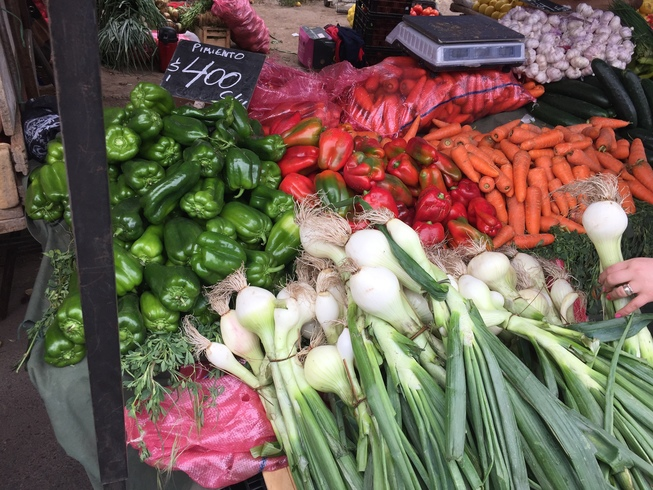precio: (161, 39, 271, 120)
